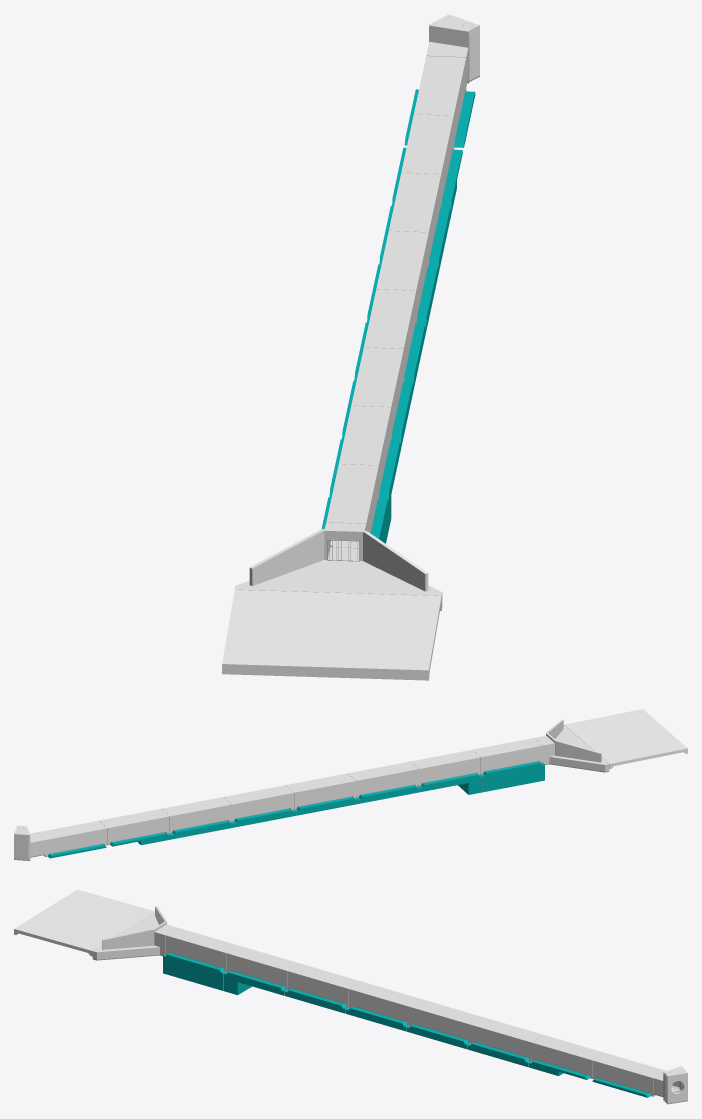
Rendered from canales.glb.
3 renders of one model, top to bottom at view 1: azimuth 30°, elevation 25°; view 2: azimuth 150°, elevation 25°; view 3: azimuth 270°, elevation 25°, orthographic. The views are drawn at different scales.
Parts seen in each view (by area): view 1: tramo; view 2: tramo; view 3: tramo.
Boxes of the visible parts, bbox=[...] form: tramo: bbox=[222, 14, 479, 680]; tramo: bbox=[14, 709, 687, 860]; tramo: bbox=[14, 889, 687, 1104].
Bounding box in the file's own units: 57.45 × 6.03 × 77.01.
